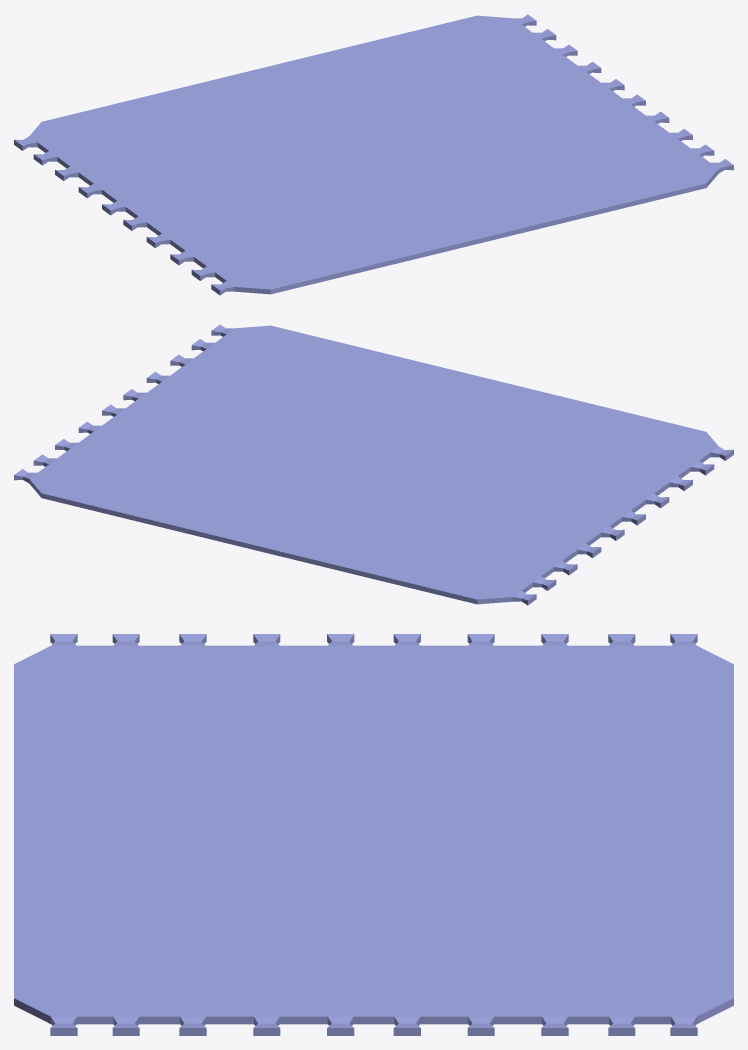
File: CarpetC.fbx
The picture shows the model from 3 angles, top to bottom: view 1: azimuth 30°, elevation 25°; view 2: azimuth 150°, elevation 25°; view 3: azimuth 270°, elevation 25°; orthographic projection. The views are drawn at different scales.
Parts seen in each view (by area): view 1: CarpetB.002; view 2: CarpetB.002; view 3: CarpetB.002.
Boxes of the visible parts, x1,y1,x2,y2 form: CarpetB.002: [14, 14, 733, 295]; CarpetB.002: [14, 324, 733, 605]; CarpetB.002: [14, 634, 733, 1035].
Size of the model in its own units: 1137 by 10.73 by 878.
